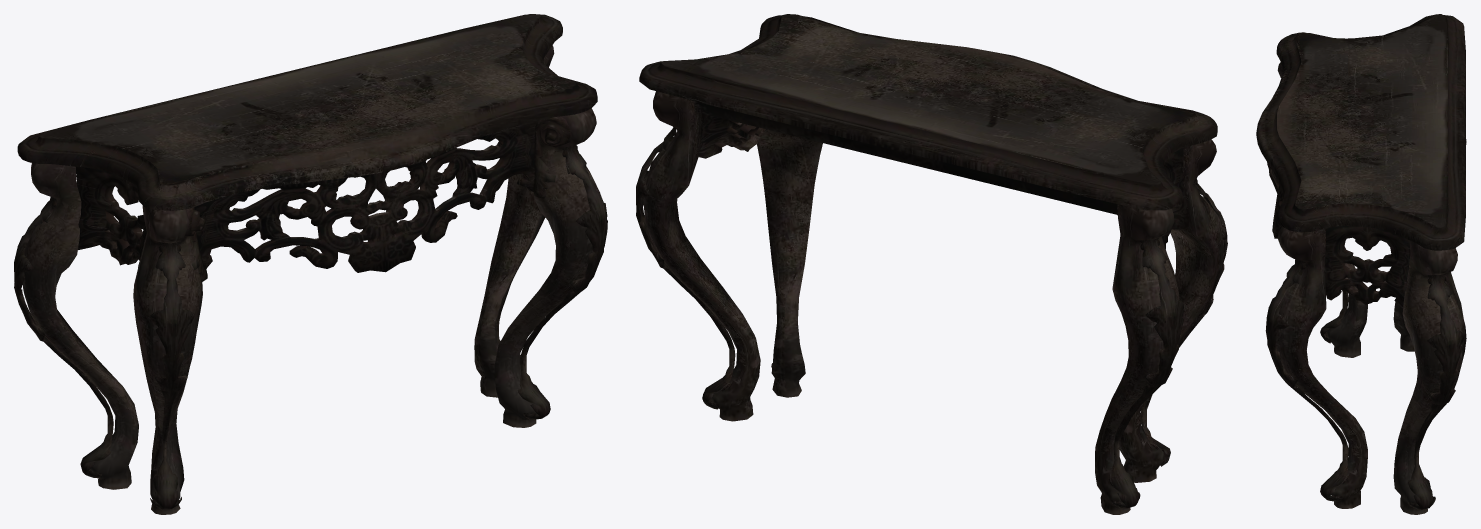
Rendered from ClassicConsole_01.glb.
3 views of the same model, side by side, from view 1: azimuth 30°, elevation 25°; view 2: azimuth 150°, elevation 25°; view 3: azimuth 270°, elevation 25° (orthographic). The views are drawn at different scales.
Parts seen in each view (by area): view 1: ClassicConsole_01; view 2: ClassicConsole_01; view 3: ClassicConsole_01.
Part boxes in pixels (<box>): ClassicConsole_01: <box>14,14,607,514</box>; ClassicConsole_01: <box>636,14,1227,514</box>; ClassicConsole_01: <box>1256,14,1466,514</box>.
Size of the model in its own units: 1.54 by 0.9491 by 0.5893.
Materials: 1 (1 with a texture image).
